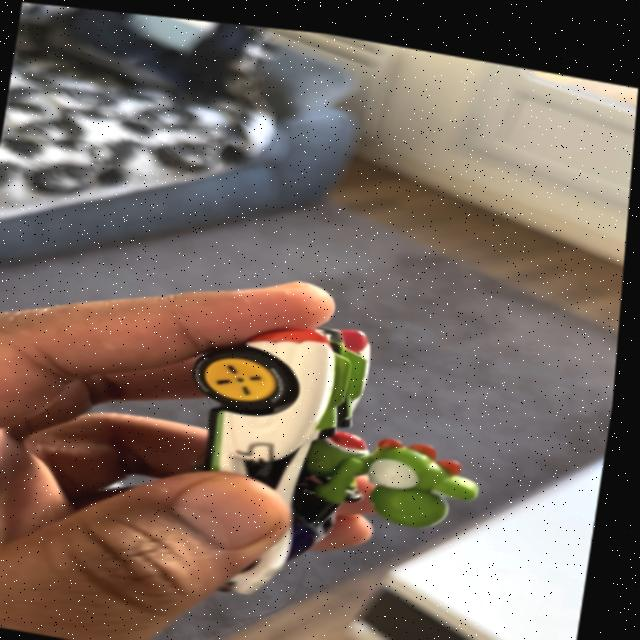yoshi: (155, 284, 523, 640)
